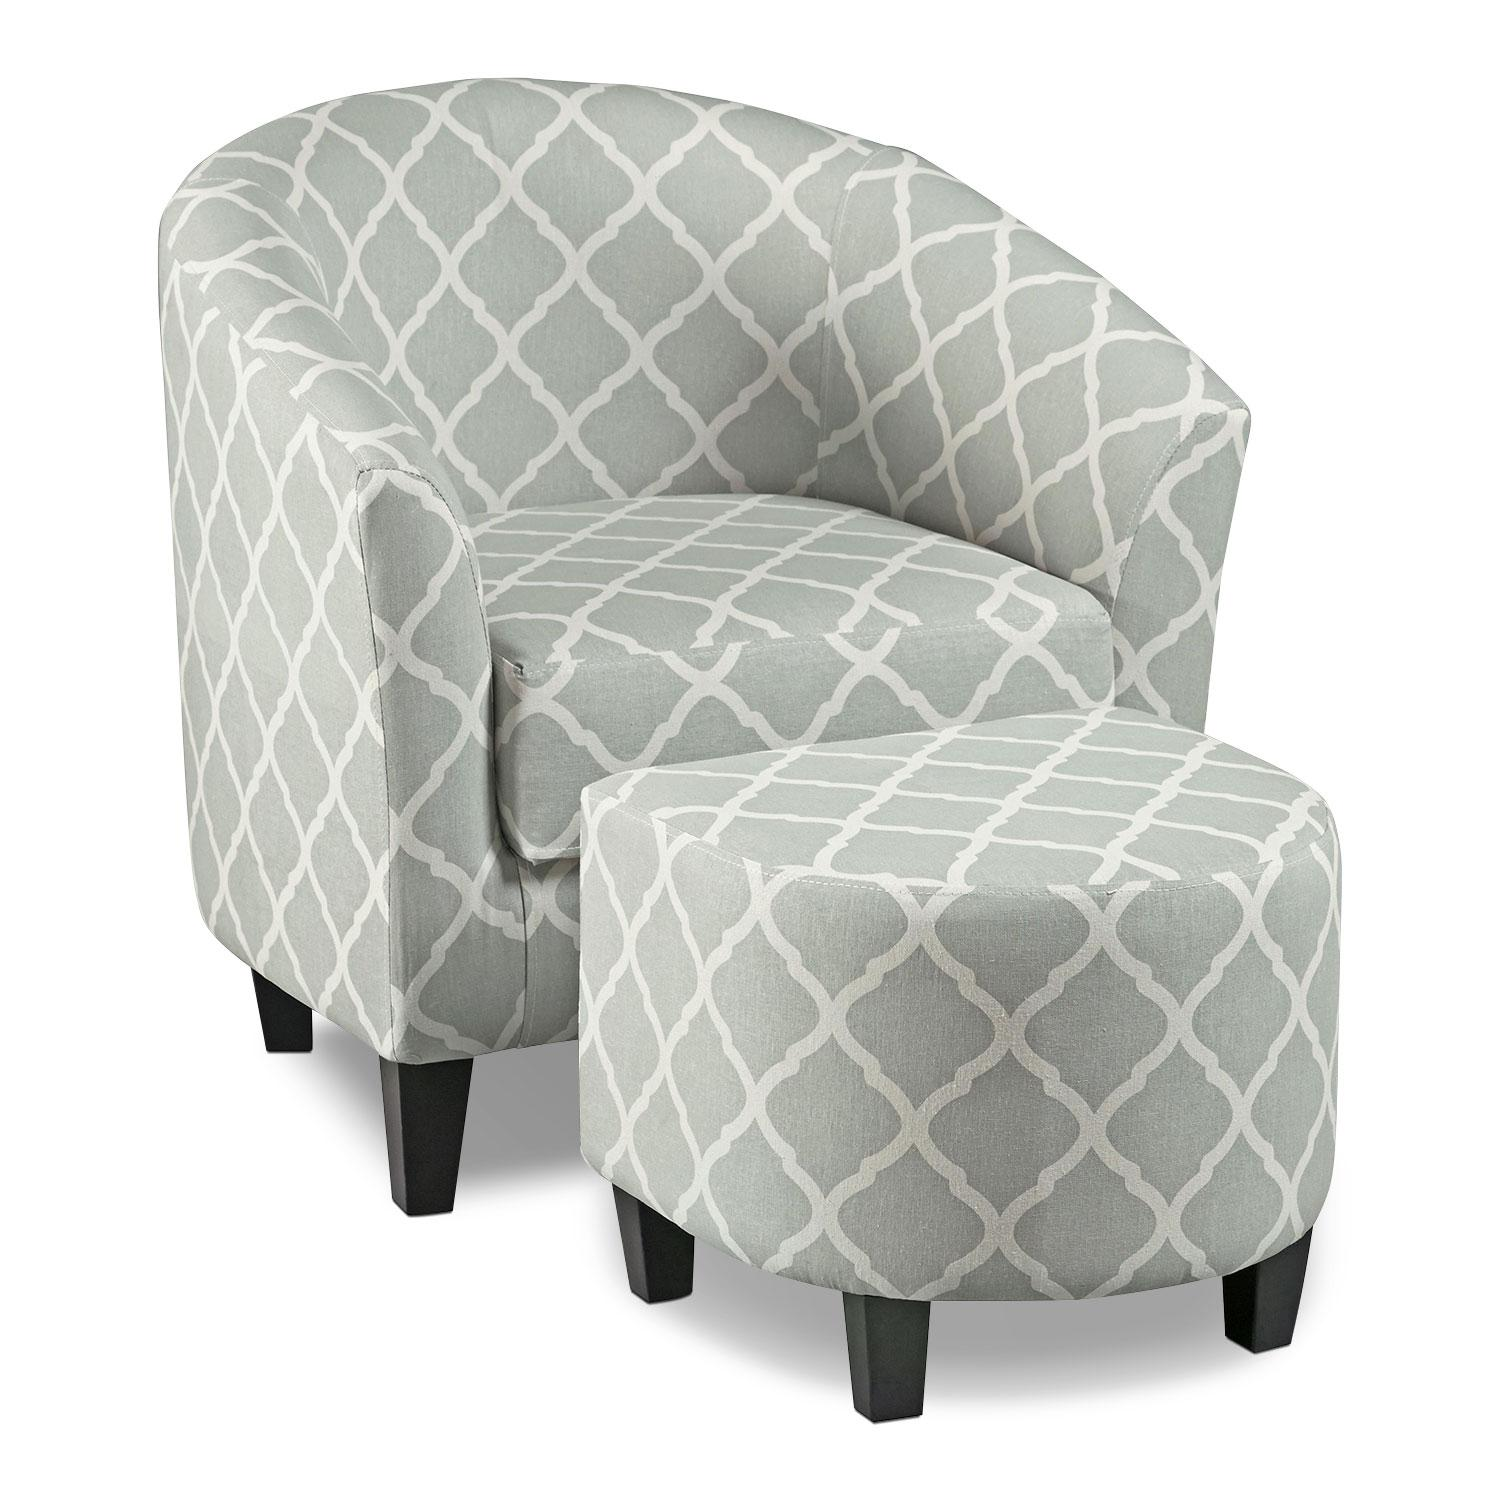chair: (143, 87, 1284, 1275), (556, 702, 1405, 1473)
